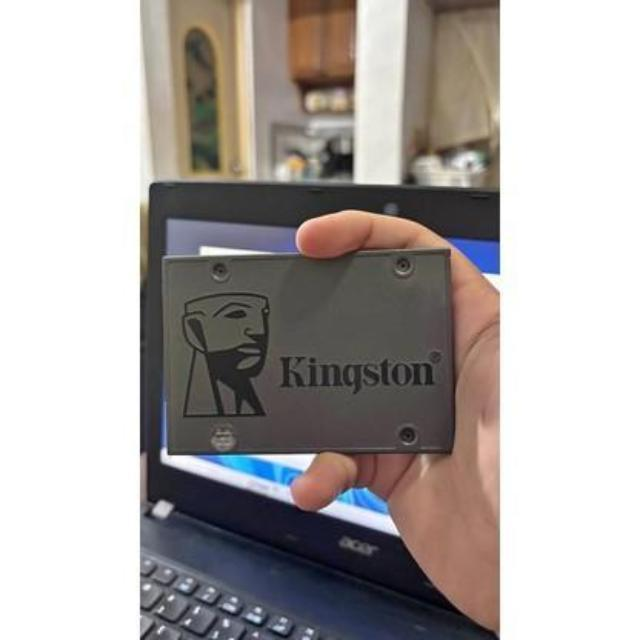DISK: (154, 245, 462, 462)
